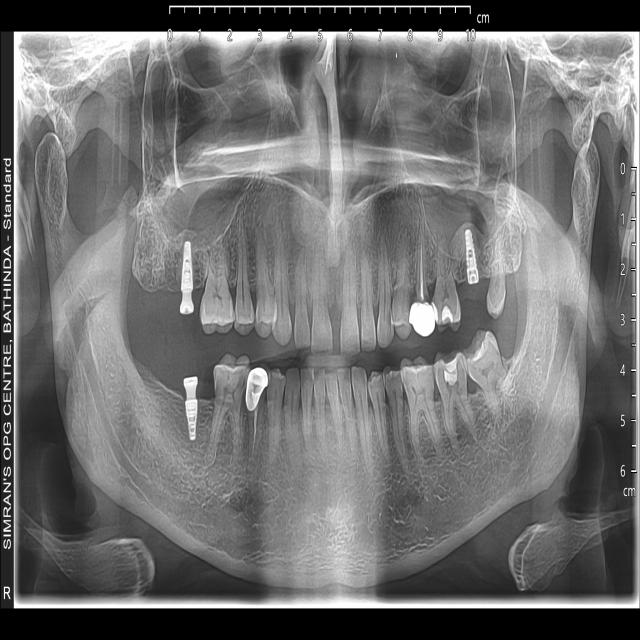Caries: (466, 327, 498, 380), (214, 353, 247, 404), (447, 315, 462, 321)
Crown: (243, 368, 267, 412), (409, 297, 434, 337)
Filling: (434, 353, 465, 395), (428, 290, 460, 324)
Implant: (180, 239, 195, 311), (183, 380, 197, 442), (467, 232, 480, 284)
Missing teeth: (148, 358, 182, 424)
Root Canal Treatment: (412, 217, 433, 332), (245, 370, 267, 470)
